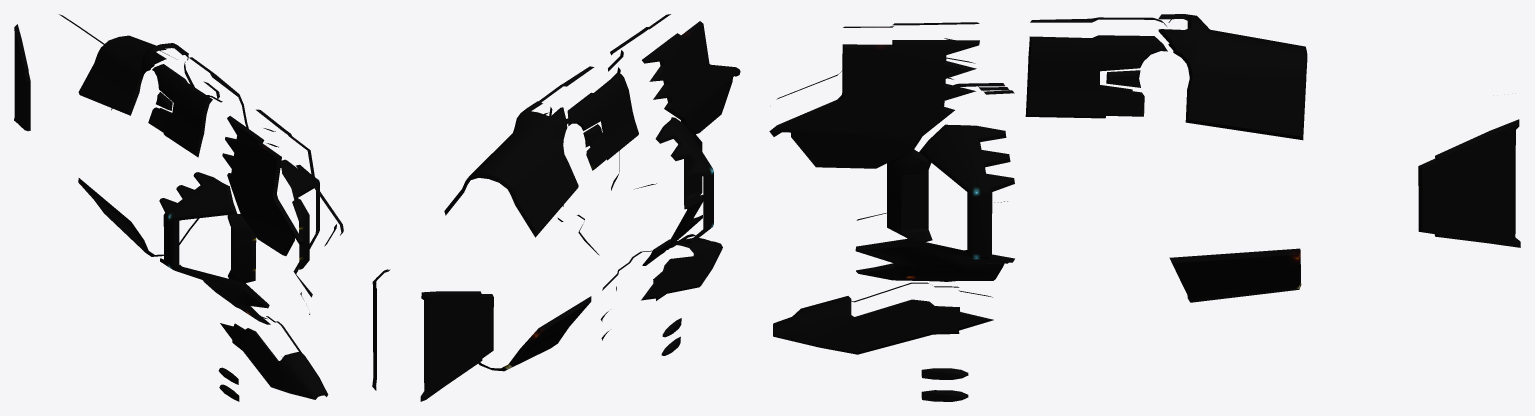
Rendered from yao_cc_batt_01_t2.glb.
3 renders of one model, left to right at view 1: azimuth 30°, elevation 25°; view 2: azimuth 150°, elevation 25°; view 3: azimuth 270°, elevation 25°, orthographic. The views are drawn at different scales.
Visible parts, largest first — view 1: yao_battlecruiser_01_t2_LOD0; view 2: yao_battlecruiser_01_t2_LOD0; view 3: yao_battlecruiser_01_t2_LOD0.
Part boxes in pixels (x1,y1,x2,y2): yao_battlecruiser_01_t2_LOD0: (14,14,343,401); yao_battlecruiser_01_t2_LOD0: (372,14,740,401); yao_battlecruiser_01_t2_LOD0: (769,14,1520,401).
Size of what is drawn, in the model's own units: 3.05 by 5.38 by 10.04.
1 material, 1 textured.
